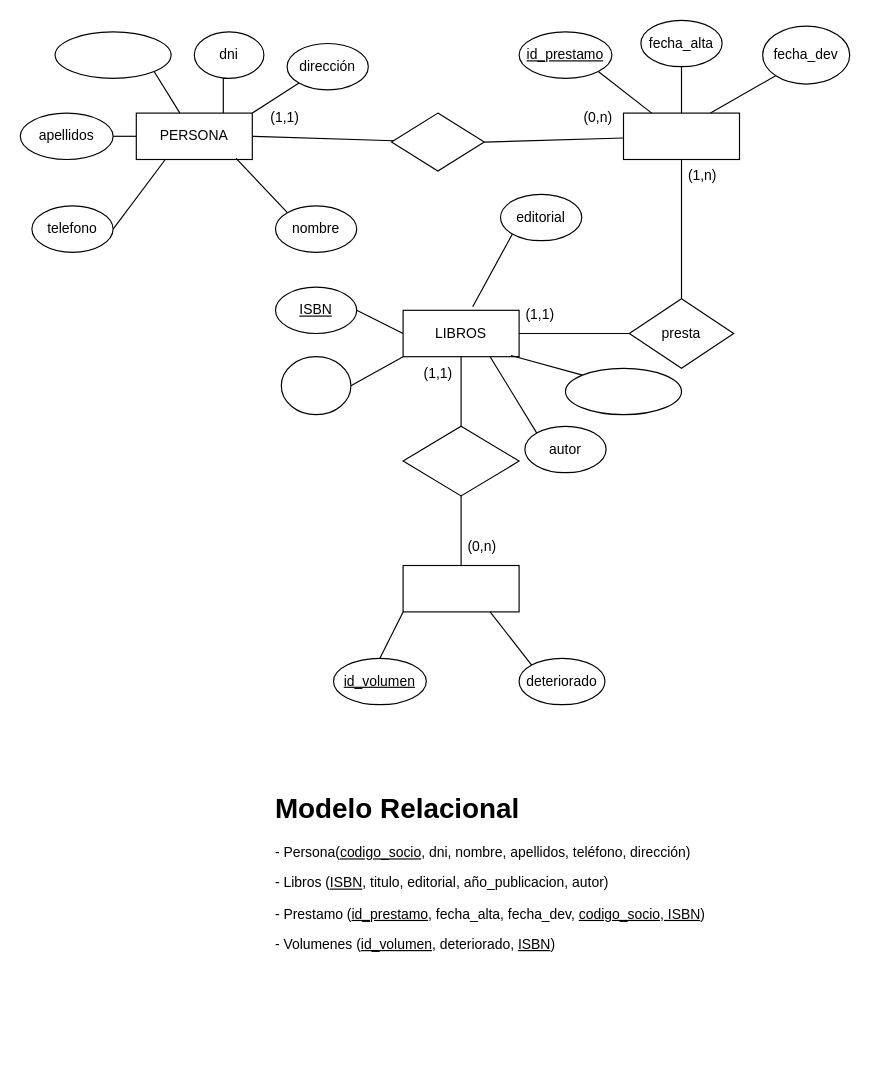
This 876x1073 diagram has some shape labels left out. The centre of each missing label's shape, as x and y in pixels:
"año_publicacion" belongs at (x=623, y=391).
"codigo_socio" belongs at (x=112, y=54).
"PRESTAMO" belongs at (x=681, y=136).
"solicita" belongs at (x=437, y=141).
"tiene" belongs at (x=460, y=460).
"titulo" belongs at (x=315, y=385).
"VOLUMENES" belongs at (x=460, y=588).
